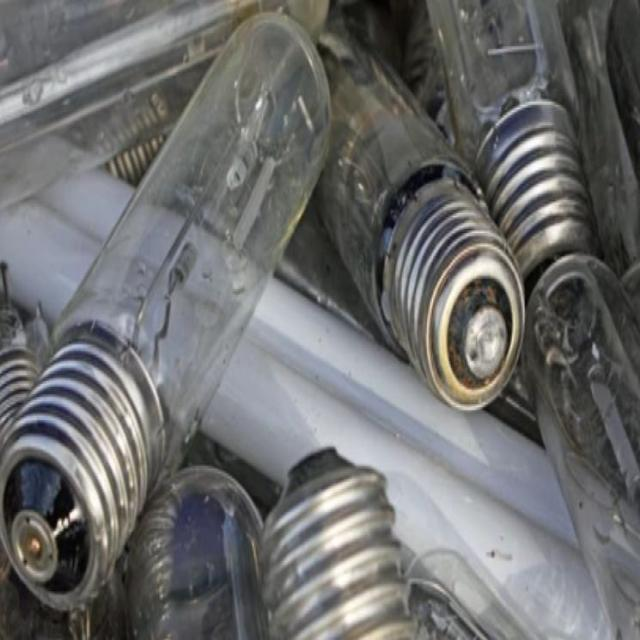electronic: (0, 0, 639, 639), (0, 5, 332, 612), (312, 16, 526, 413), (522, 248, 639, 638)
